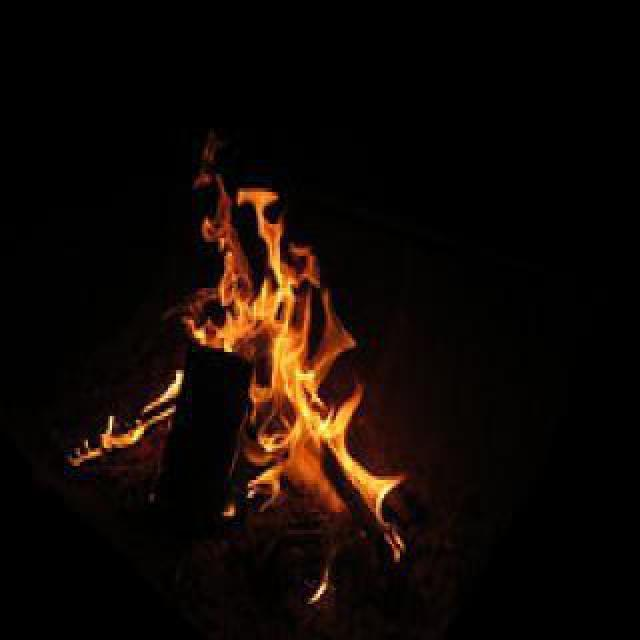Fire: (72, 150, 412, 578)
